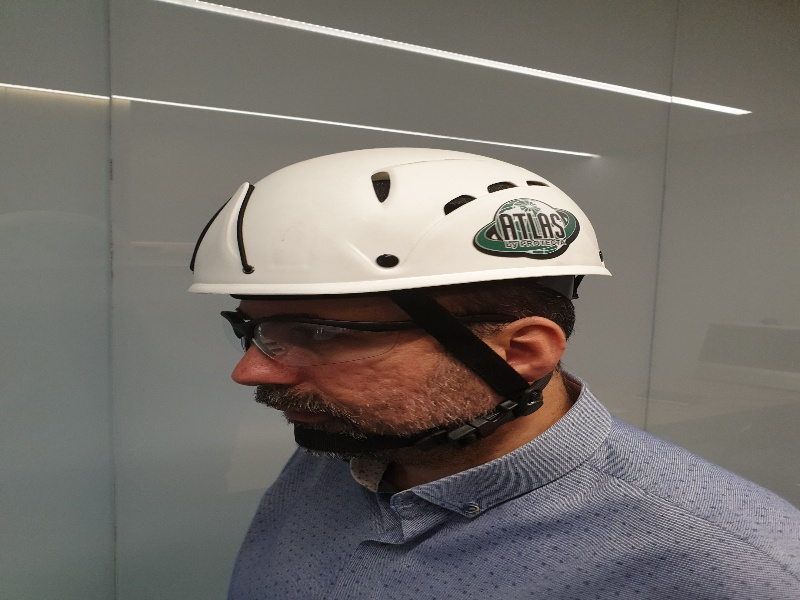Baret: (188, 145, 609, 294)
Gozluk: (222, 307, 523, 366)
